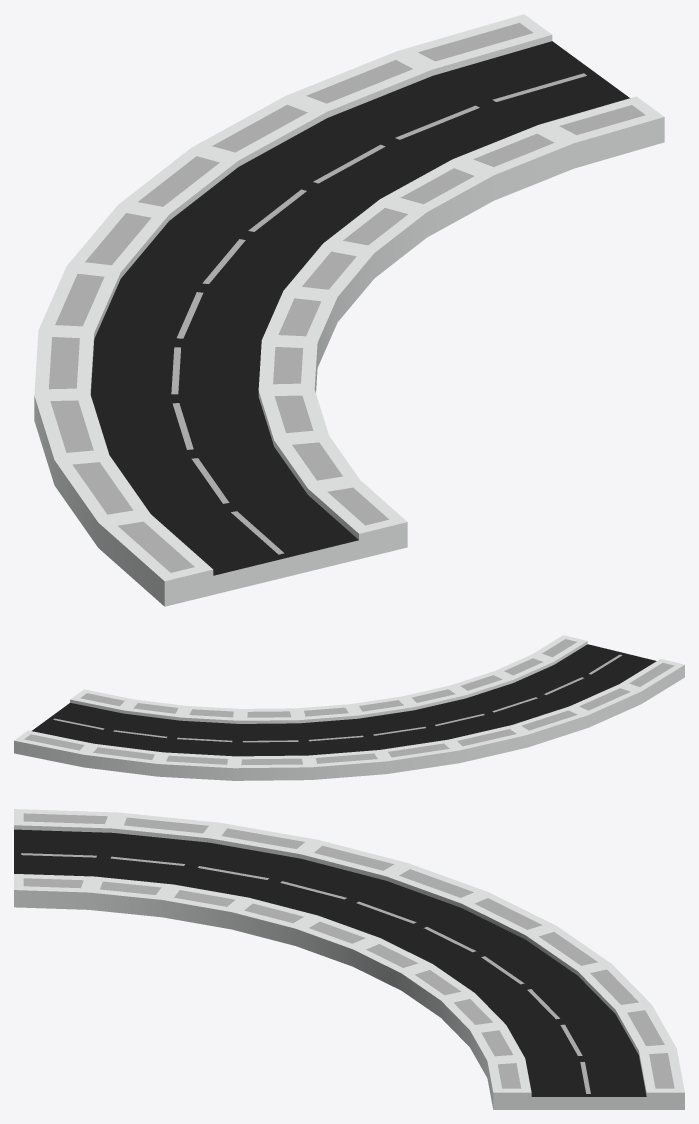
Rendered from duong cong 2.fbx.
The picture shows the model from 3 angles, top to bottom: view 1: azimuth 30°, elevation 25°; view 2: azimuth 150°, elevation 25°; view 3: azimuth 270°, elevation 25°; orthographic projection. The views are drawn at different scales.
Visible parts, largest first — view 1: duong_cong_2; view 2: duong_cong_2; view 3: duong_cong_2.
Boxes of the visible parts, left/top/right/bottom form: duong_cong_2: left=34, top=14, right=664, bottom=606; duong_cong_2: left=14, top=635, right=684, bottom=780; duong_cong_2: left=14, top=809, right=684, bottom=1109.
Bounding box in the file's own units: 70 × 2 × 70.
1 material, 1 textured.
